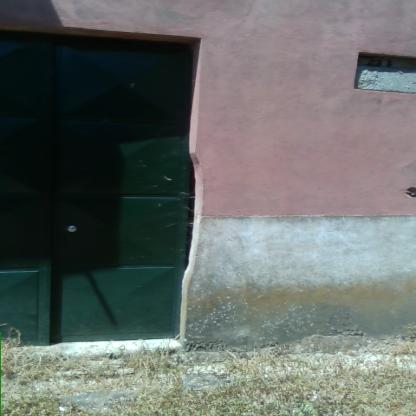closed: (0, 28, 215, 361)
